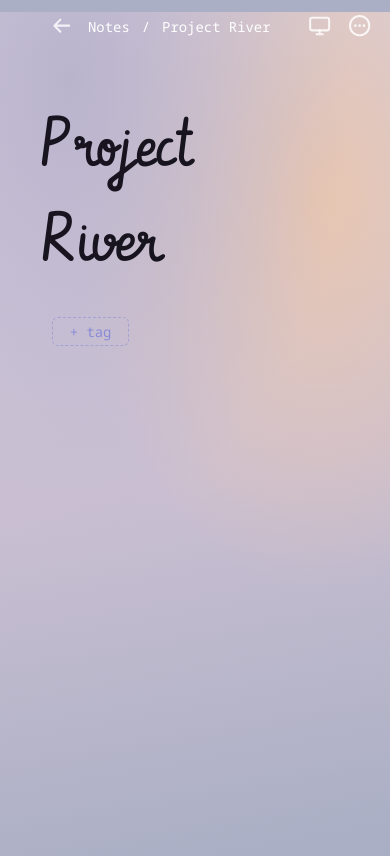
Test: EditorHeader navigation › shows forward after going back
The width and height of the screenshot is (390, 856).
Click the button named "Back" at (62, 26), box [48,12,76,40]
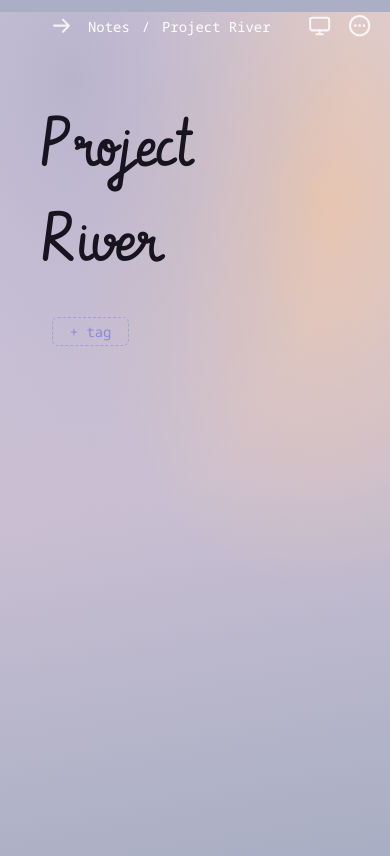
Now the button named "Forward" is shown, box [48,12,76,40]
